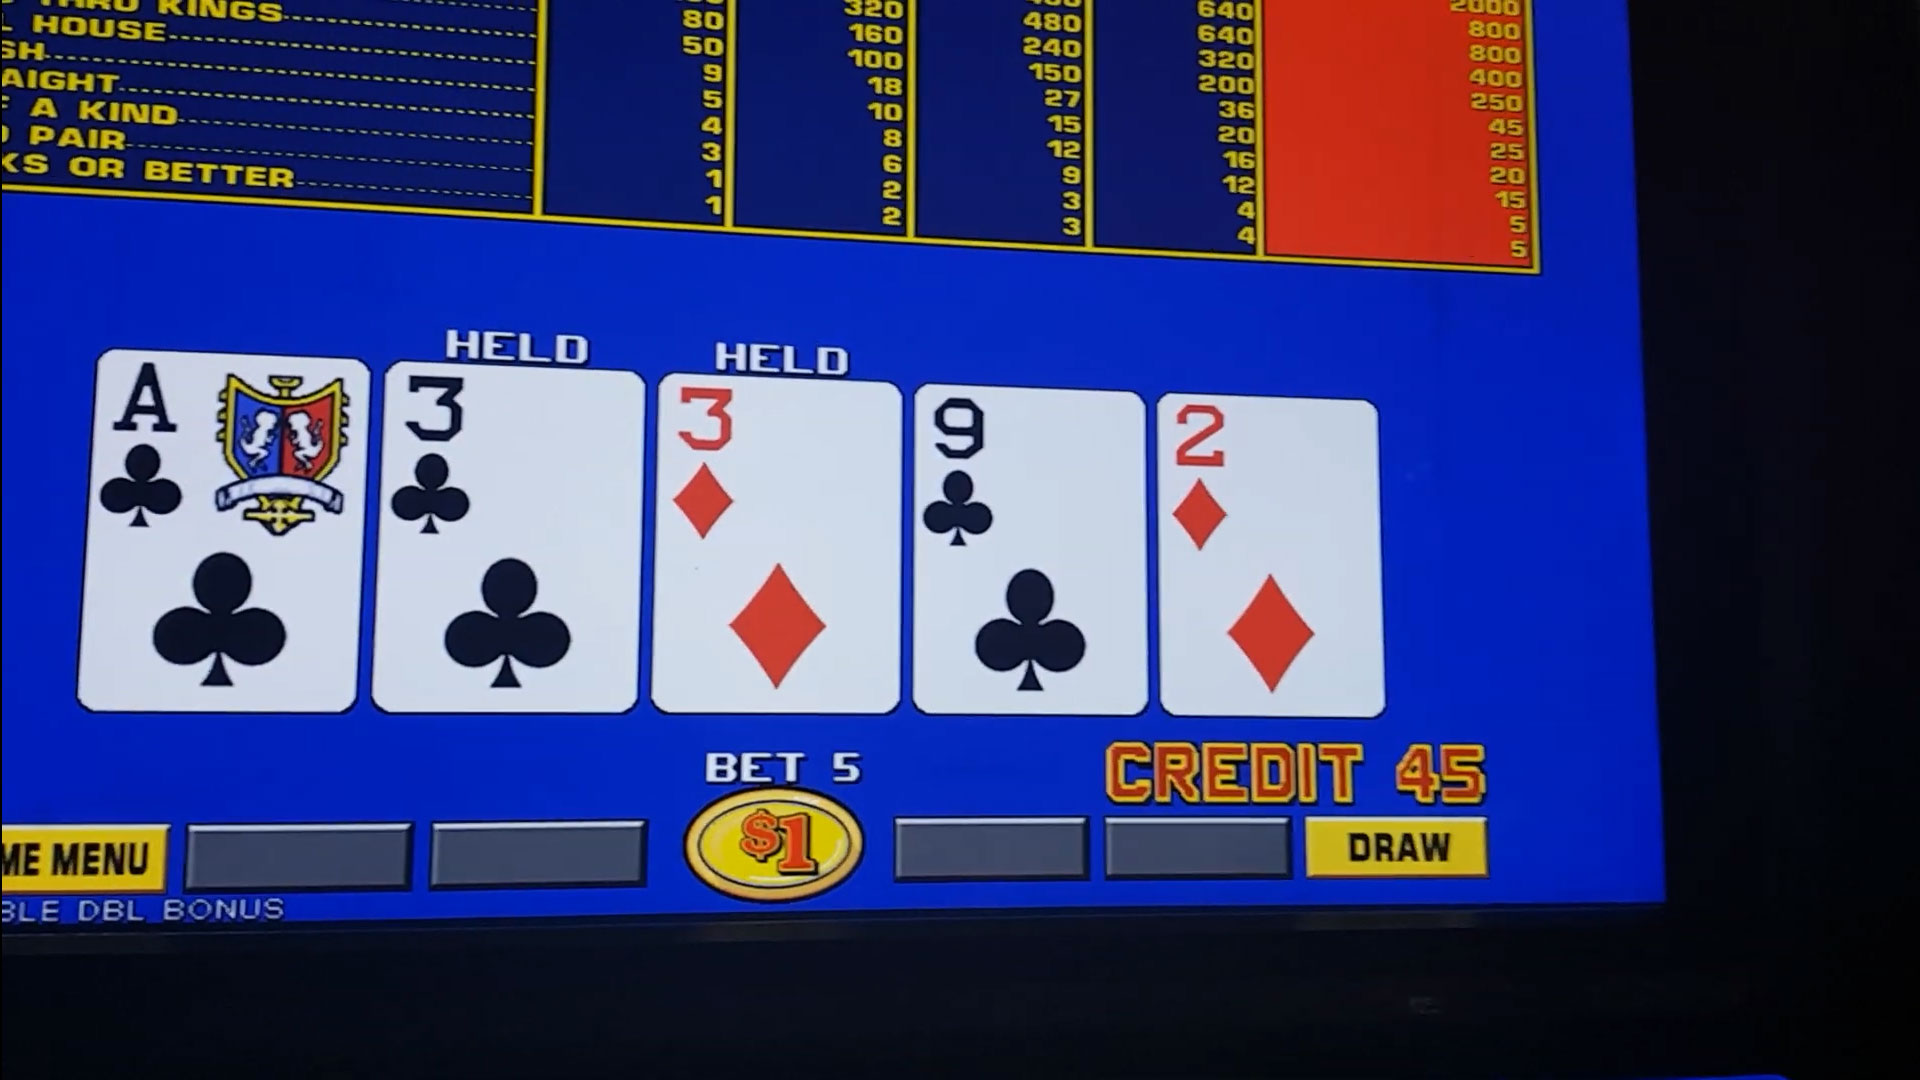C3: (384, 363, 647, 545)
C9: (915, 393, 1139, 556)
CA: (96, 356, 359, 539)
D2: (1160, 398, 1379, 568)
D3: (665, 380, 901, 545)
